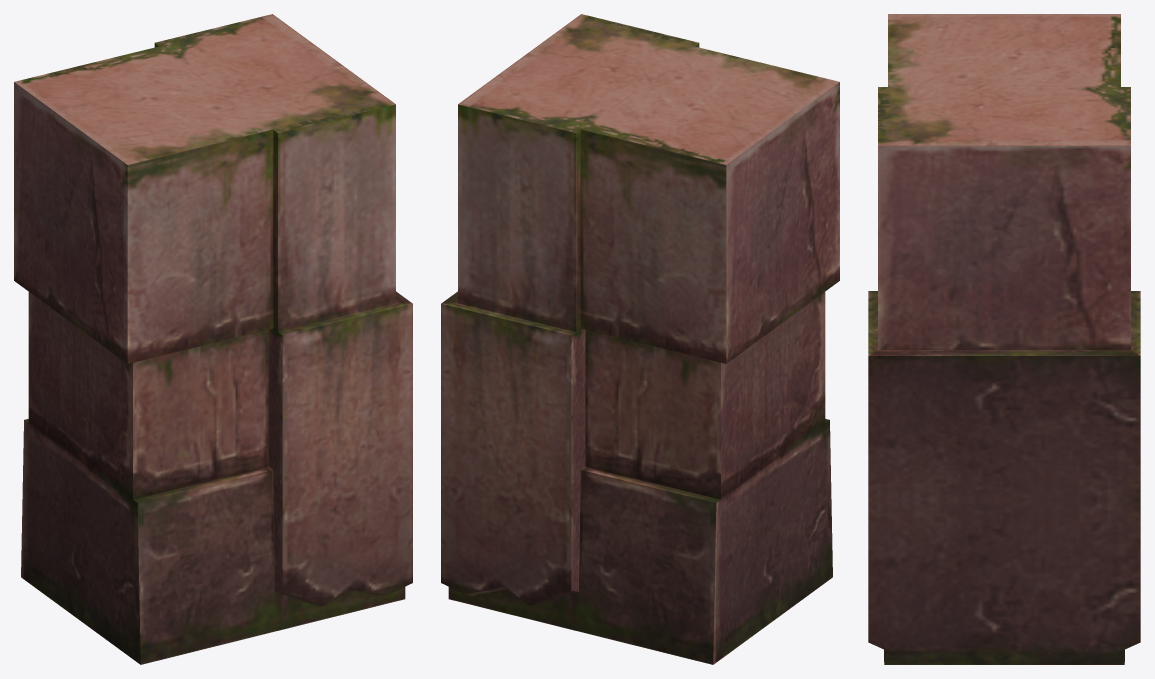
Rendered from yw_huanghunhupan_shiqiang04.FBX.
3 renders of one model, left to right at view 1: azimuth 30°, elevation 25°; view 2: azimuth 150°, elevation 25°; view 3: azimuth 270°, elevation 25°, orthographic. The views are drawn at different scales.
Parts seen in each view (by area): view 1: yw_huanghunhupan_shiqiang04; view 2: yw_huanghunhupan_shiqiang04; view 3: yw_huanghunhupan_shiqiang04.
Part boxes in pixels (x1,y1,x2,y2): yw_huanghunhupan_shiqiang04: (14, 14, 412, 664); yw_huanghunhupan_shiqiang04: (441, 14, 839, 664); yw_huanghunhupan_shiqiang04: (868, 14, 1140, 664).
Size of the model in its own units: 165 by 285 by 137.
